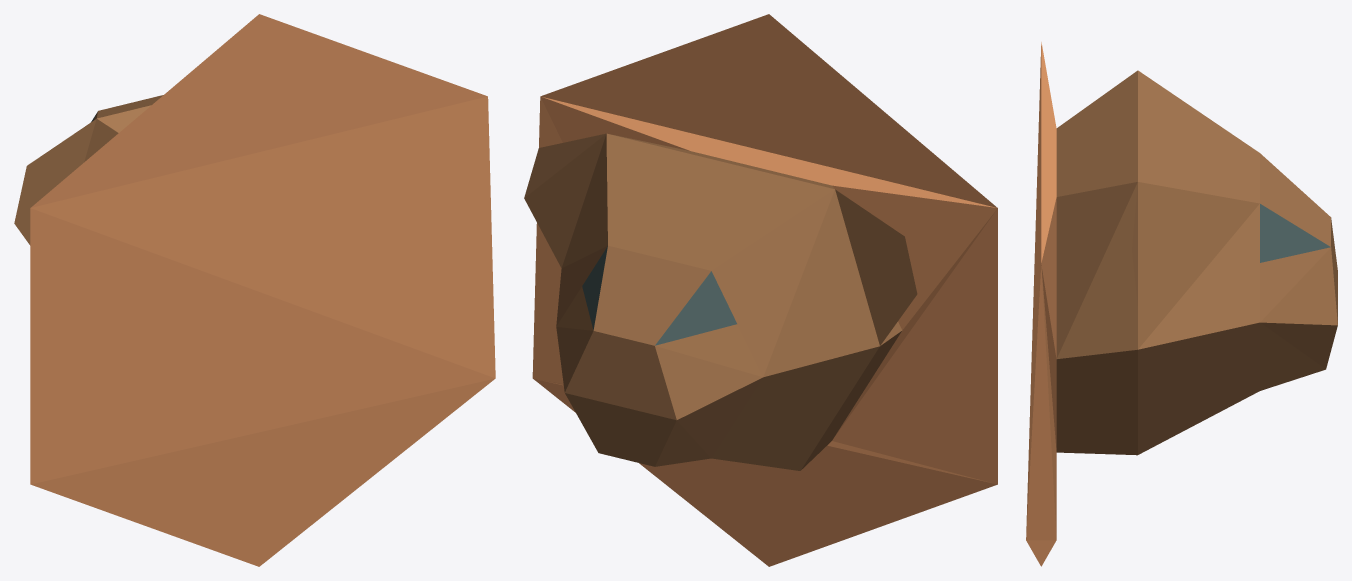
Rendered from bear_vita.obj.
3 views of the same model, side by side, from view 1: azimuth 30°, elevation 25°; view 2: azimuth 150°, elevation 25°; view 3: azimuth 270°, elevation 25° (orthographic).
Bounding box in the file's own units: 0.3897 × 0.45 × 0.23.
